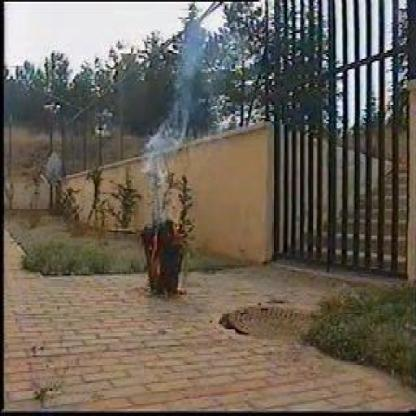-: (139, 82, 191, 178)
foggia-v2-map80-epoch100 - v1 4323: (170, 203, 182, 236)
